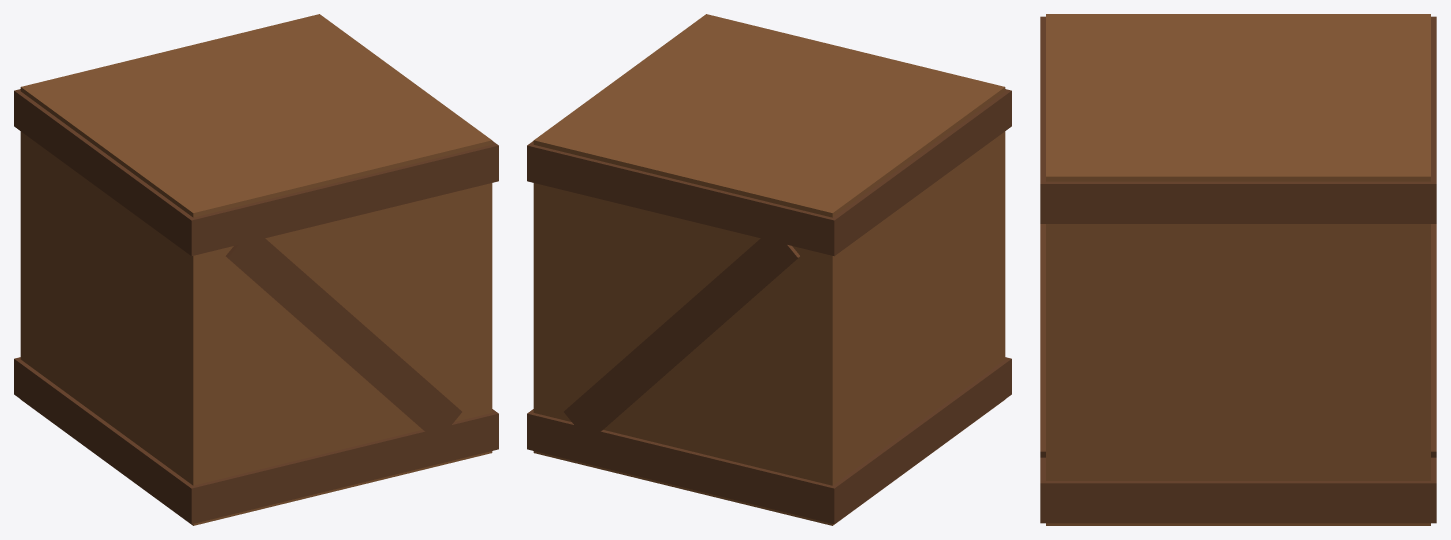
The model's file is f_crate.glb.
3 renders of one model, left to right at view 1: azimuth 30°, elevation 25°; view 2: azimuth 150°, elevation 25°; view 3: azimuth 270°, elevation 25°, orthographic. The views are drawn at different scales.
Parts seen in each view (by area): view 1: crate; view 2: crate; view 3: crate.
Boxes of the visible parts, x1=… form: crate: x1=14, y1=14, x2=498, y2=525; crate: x1=527, y1=14, x2=1011, y2=525; crate: x1=1040, y1=14, x2=1436, y2=525.
Size of the model in its own units: 0.72 by 0.7 by 0.72.
